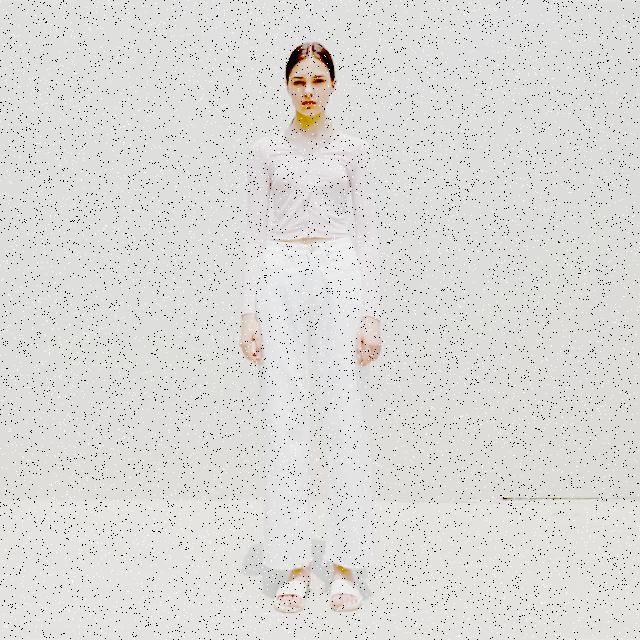Blouse_deep: (241, 133, 381, 318)
